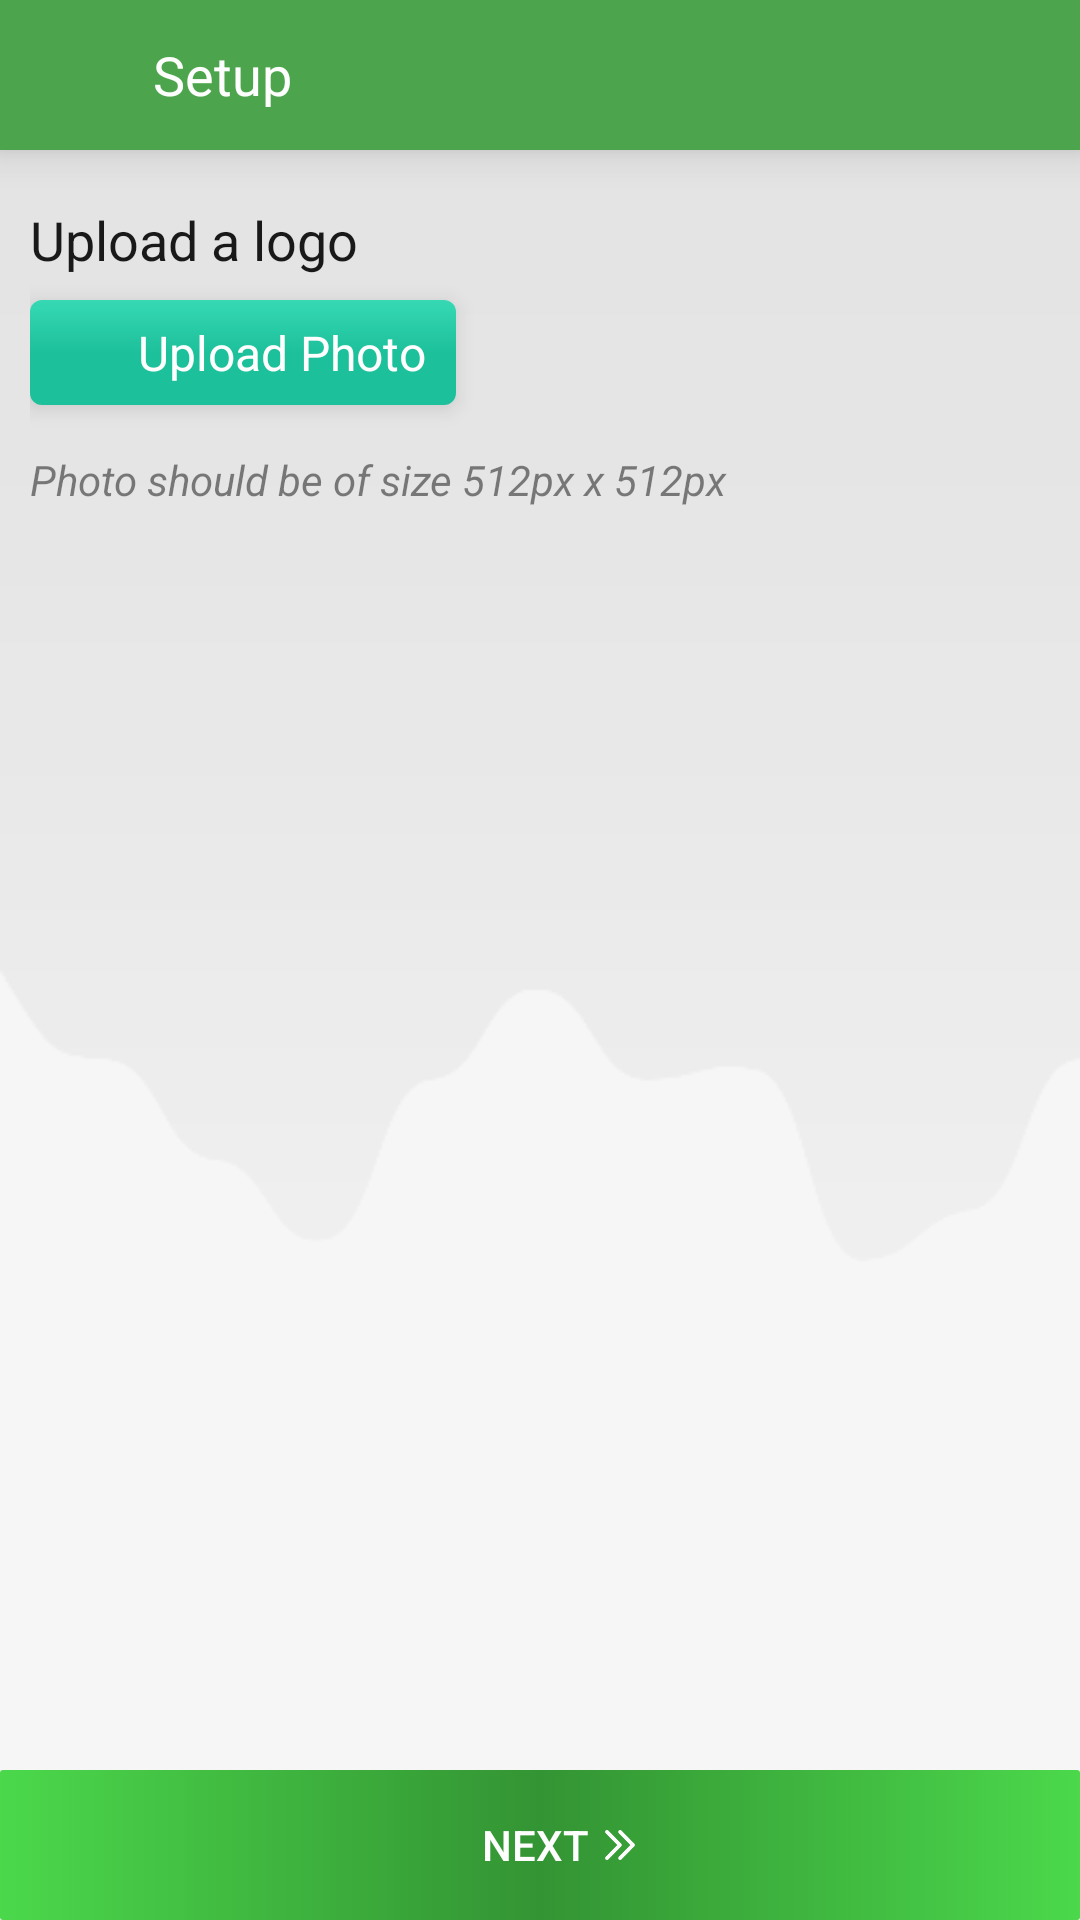

Icons on this 1080px×1920px Android screen, each with the point to tap as [x,y]:
arrow: [620,1845]
